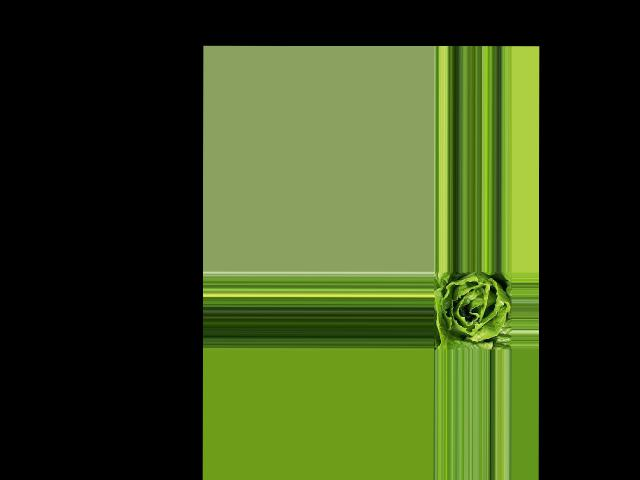lettuce: (434, 272, 510, 350)
